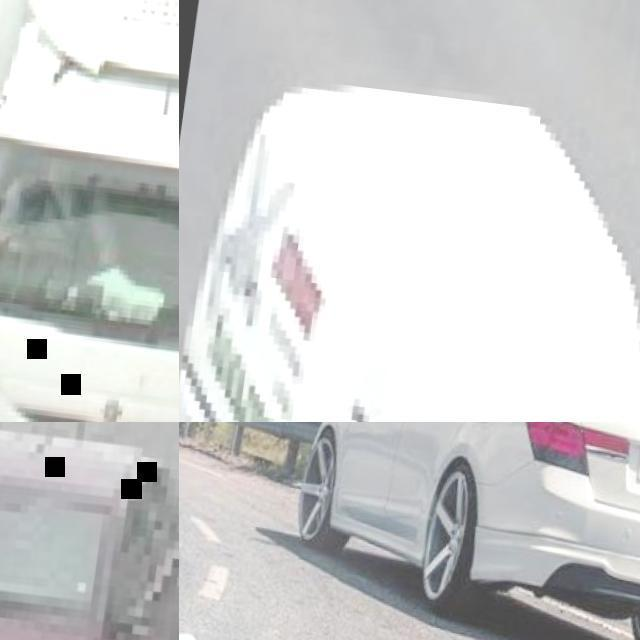car: (181, 86, 636, 618)
